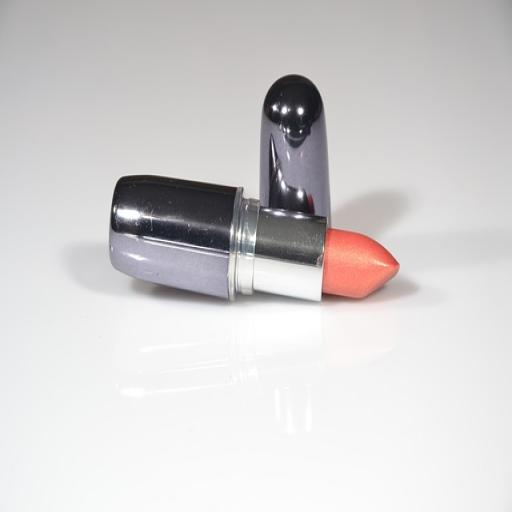lipstick: (110, 177, 399, 300)
